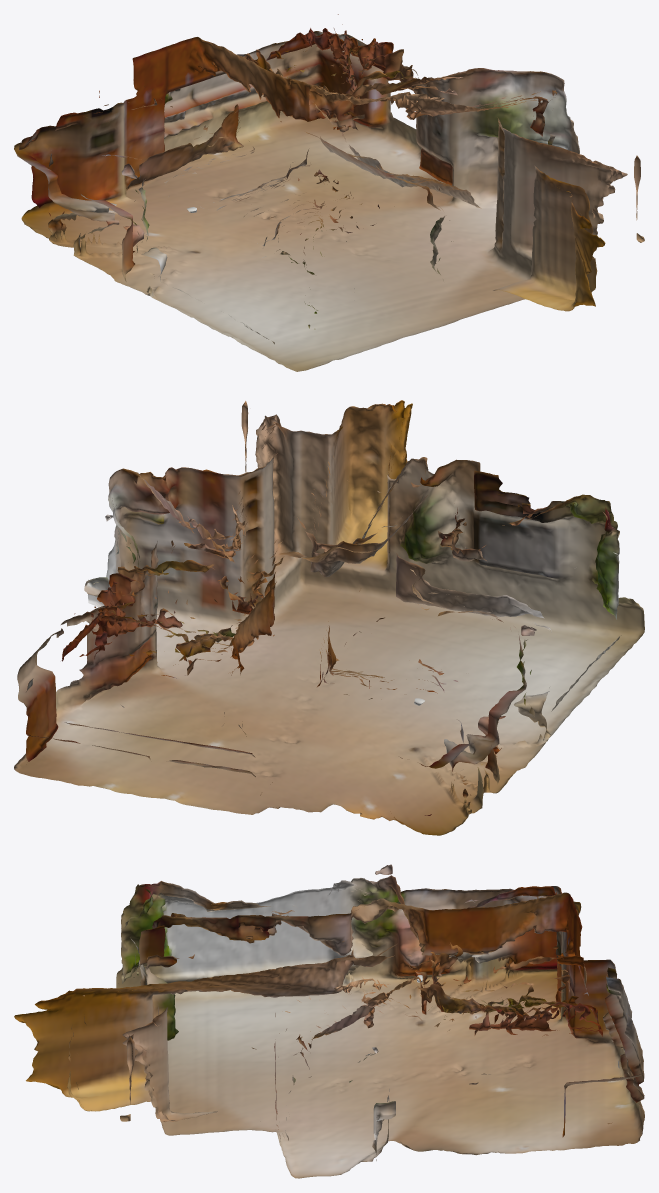
File: worldlabs-collider.glb
3 renders of one model, top to bottom at view 1: azimuth 30°, elevation 25°; view 2: azimuth 150°, elevation 25°; view 3: azimuth 270°, elevation 25°, orthographic. The views are drawn at different scales.
Parts seen in each view (by area): view 1: world; view 2: world; view 3: world.
Boxes of the visible parts, x1,y1,x2,y2 form: world: (14,14,644,371); world: (14,400,644,835); world: (14,864,644,1178).
Size of the model in its own units: 6.63 by 2.12 by 8.49.
